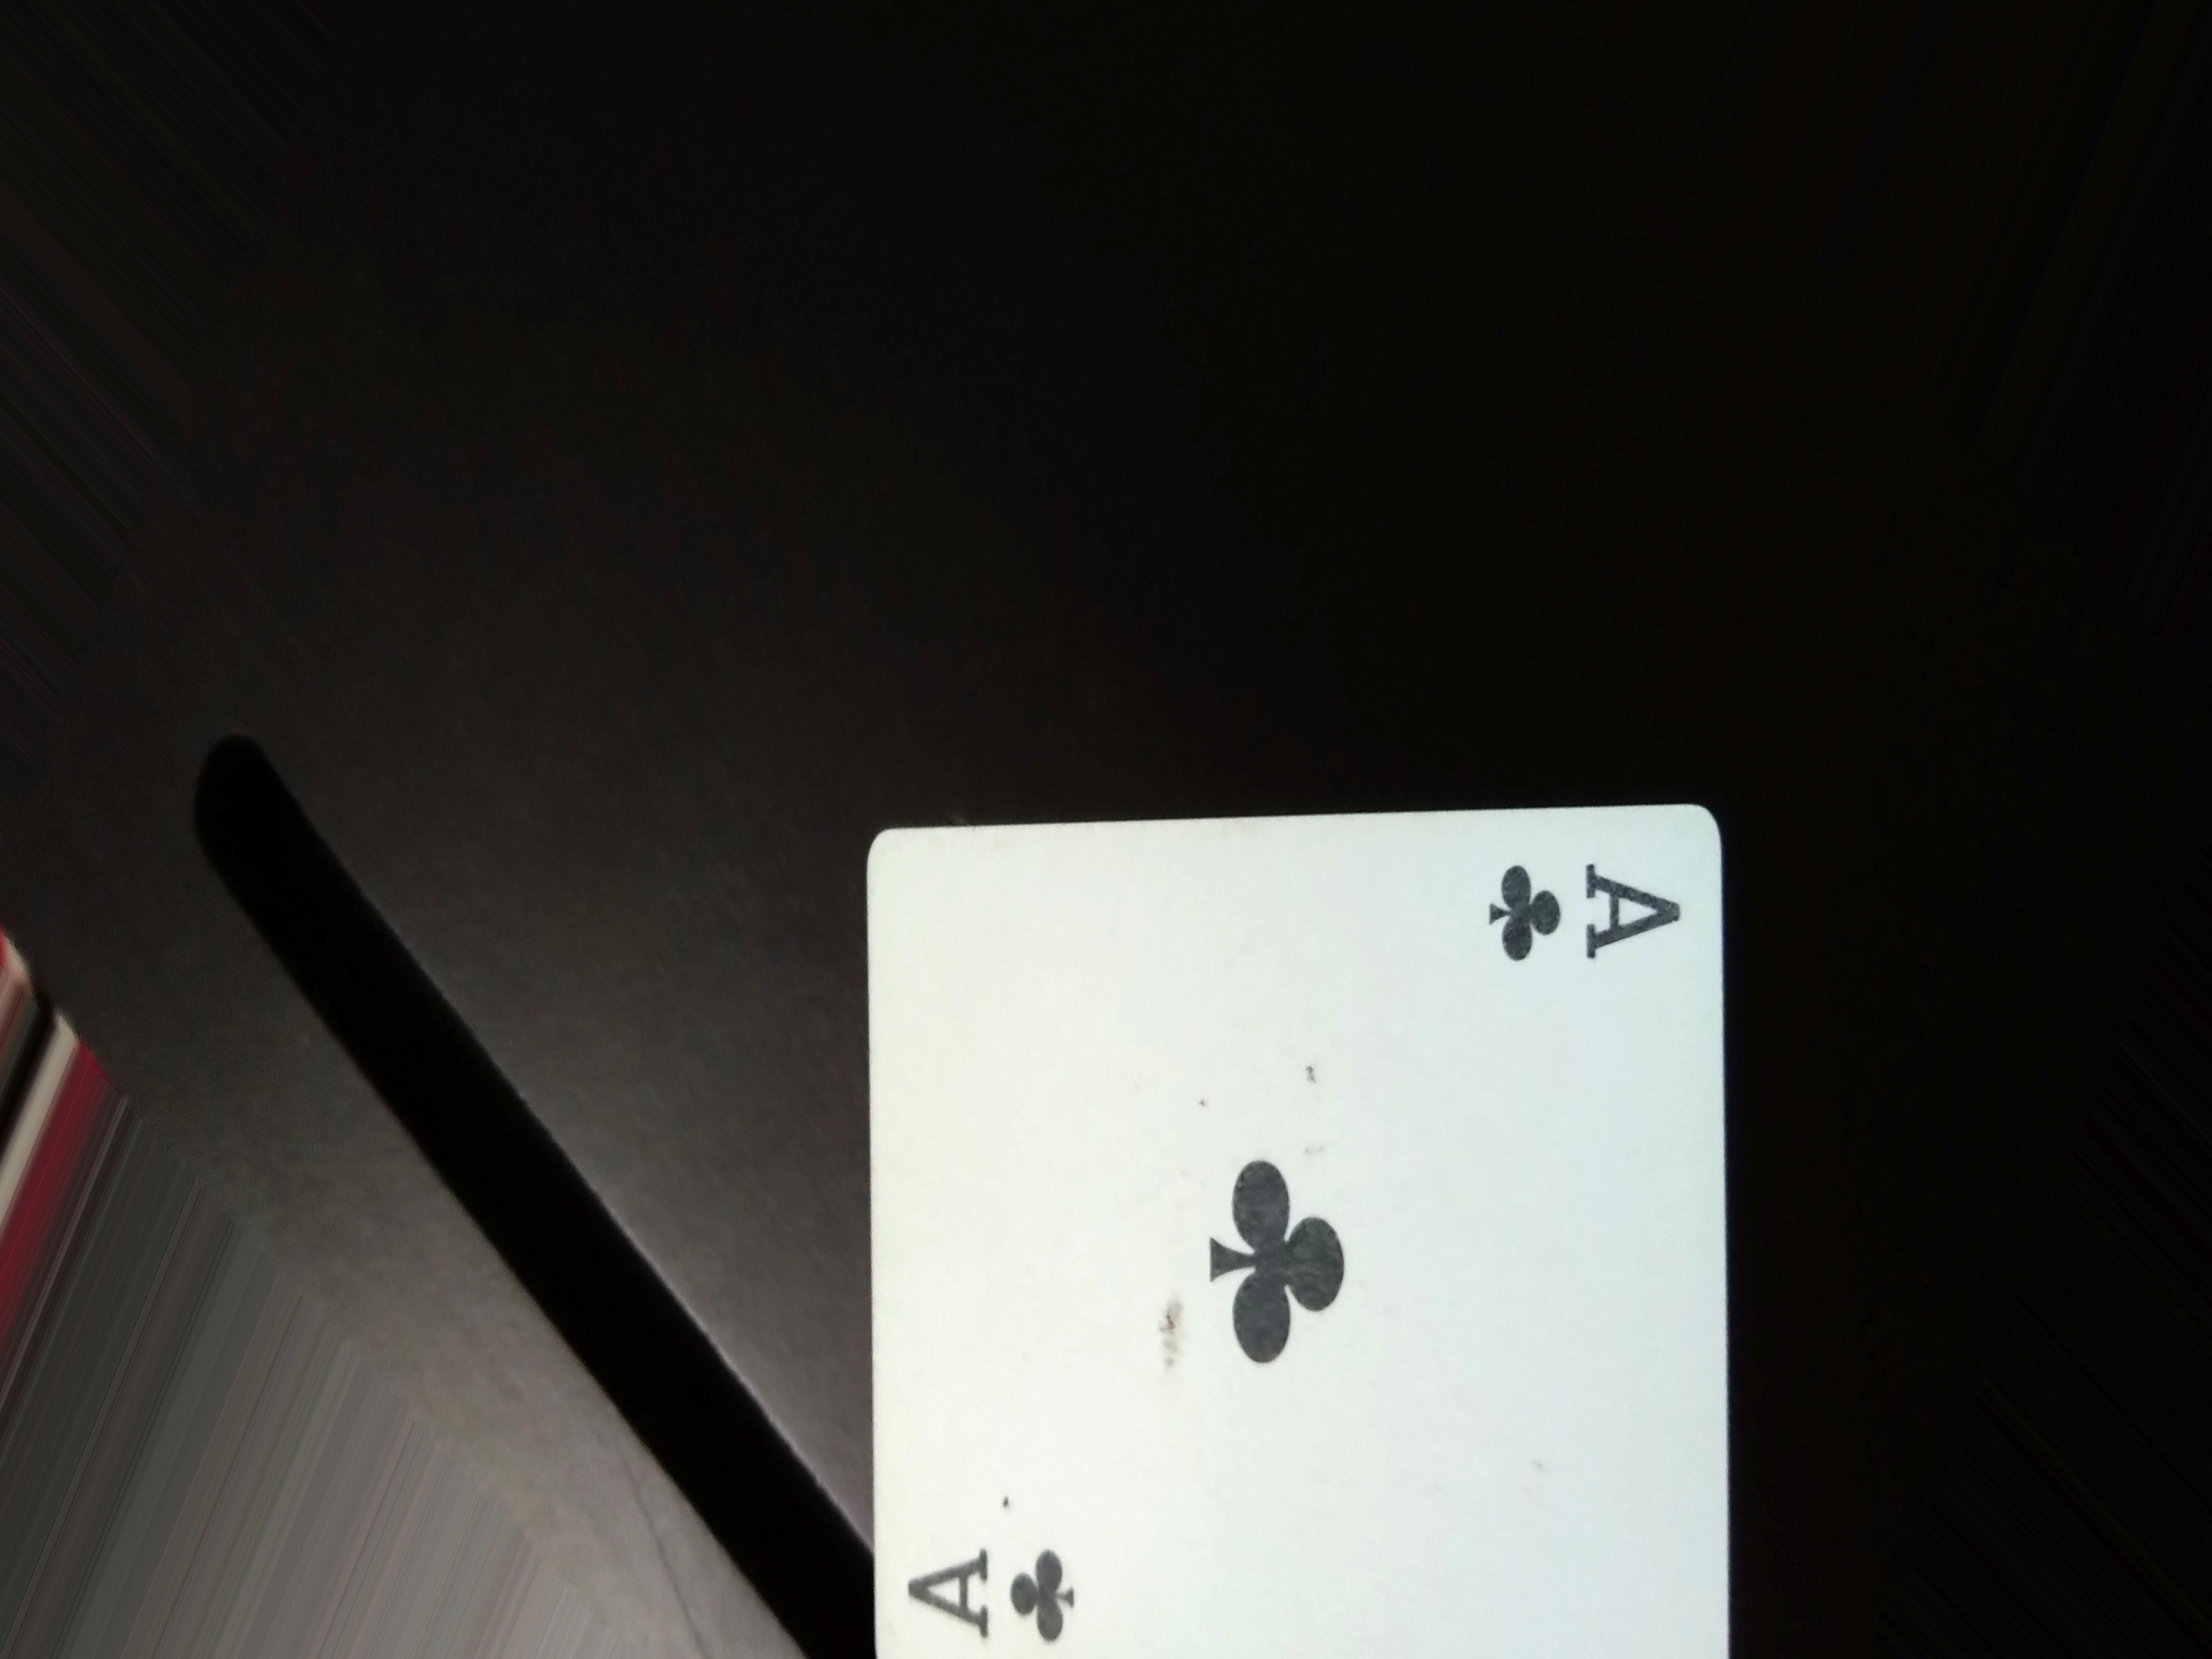AC: (1486, 847, 1691, 983)
